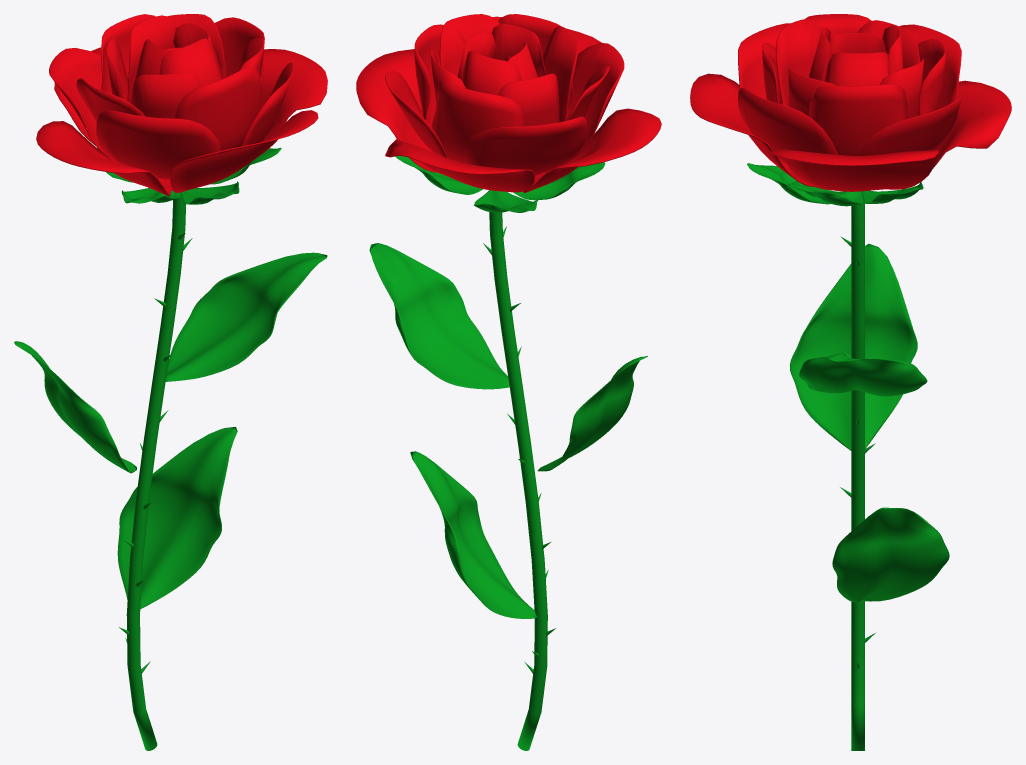
Rendered from rose_v3.fbx.
The picture shows the model from 3 angles, left to right: view 1: azimuth 30°, elevation 25°; view 2: azimuth 150°, elevation 25°; view 3: azimuth 270°, elevation 25°; orthographic projection. The views are drawn at different scales.
Visible parts, largest first — view 1: Sphere.008; view 2: Sphere.008; view 3: Sphere.008.
Part boxes in pixels (x1,y1,x2,y2): Sphere.008: [14, 14, 327, 750]; Sphere.008: [356, 14, 661, 750]; Sphere.008: [690, 14, 1011, 750].
Bounding box in the file's own units: 313 × 719 × 286.
